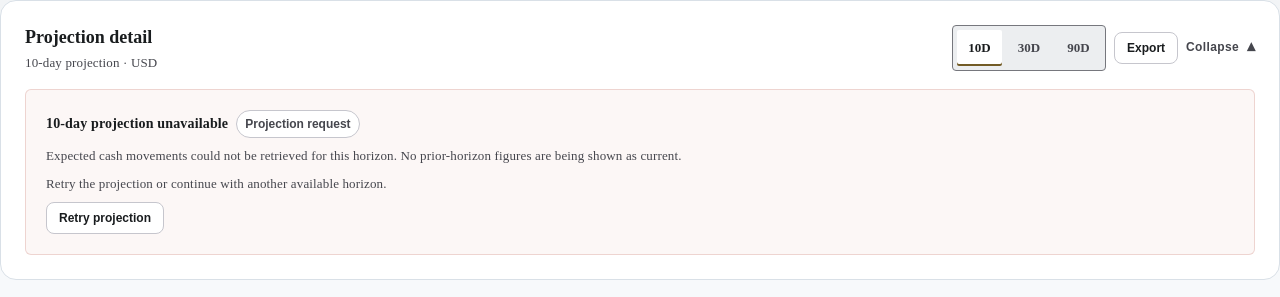
Test: PortfolioProjectedCashflowModule › shows an unavailable envelope without rendering a fabricated empty projection
The width and height of the screenshot is (1280, 297).
Expected: the heading "10-day projection unavailable" is shown, [46,113,228,135]
Hover over the button with aria-label "Support reference": (298, 124) [236,110,360,138]
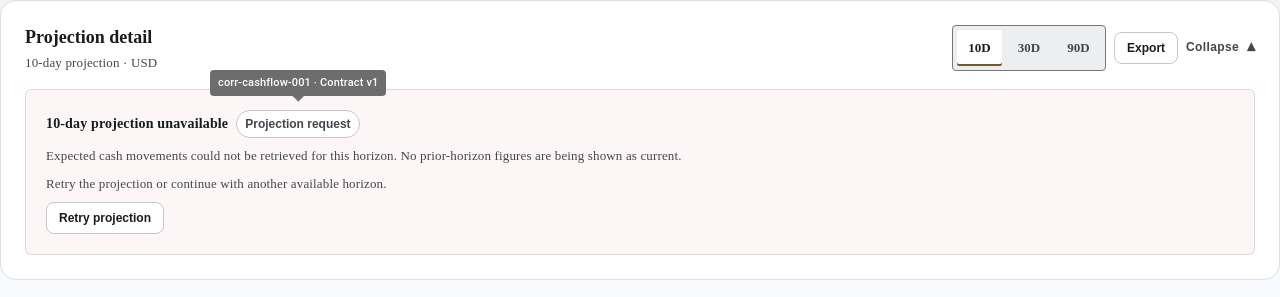
Expected: the text "corr-cashflow-001 · Contract v1" is shown, [210,70,386,96]
